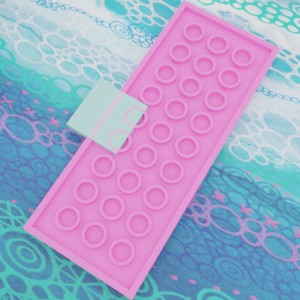lego: (22, 0, 280, 299), (66, 78, 148, 156)
